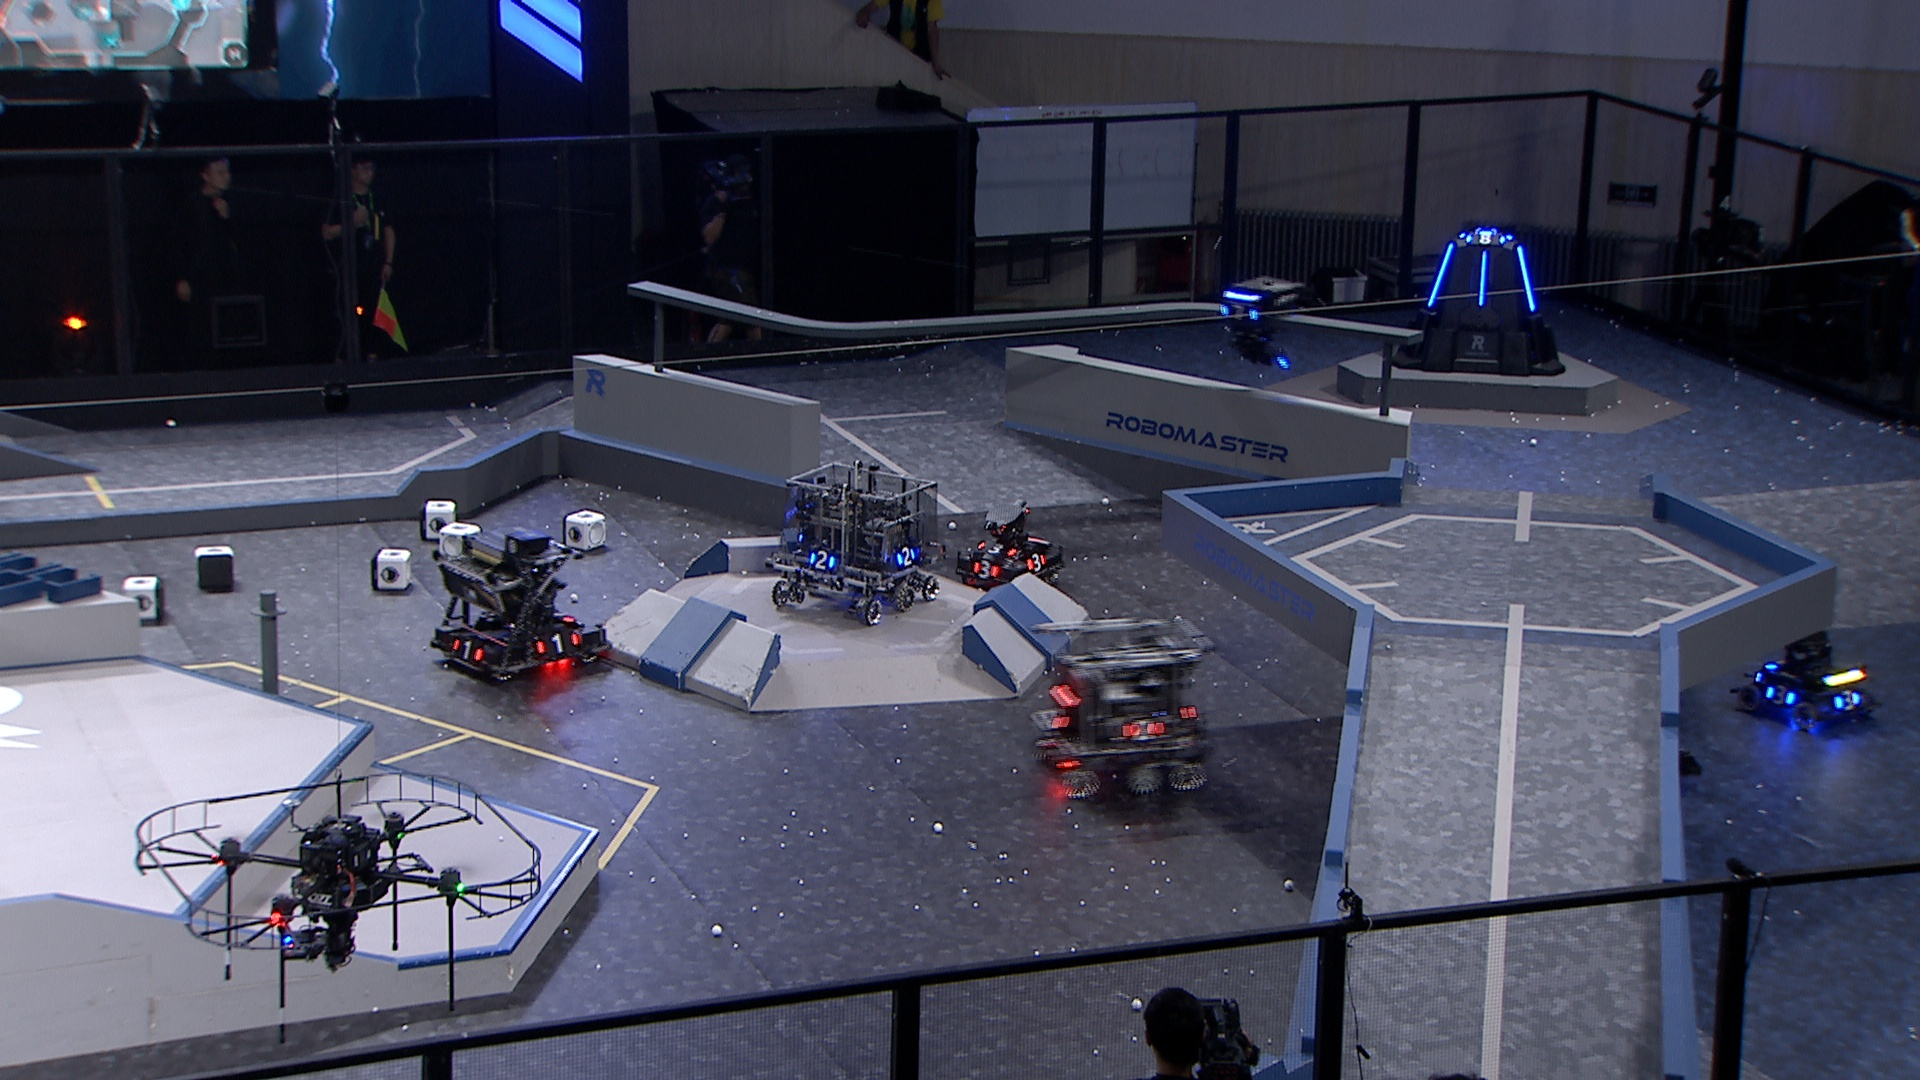armor: (1425, 243, 1457, 311), (1515, 244, 1539, 314), (531, 629, 585, 657), (448, 640, 489, 665), (1124, 717, 1166, 741), (1460, 229, 1513, 247), (1218, 305, 1261, 324), (1764, 684, 1797, 707), (1477, 251, 1489, 309), (972, 560, 1002, 582), (808, 550, 835, 574), (1833, 688, 1861, 711), (1044, 708, 1069, 732), (975, 543, 1015, 556), (1022, 553, 1048, 572), (894, 545, 916, 567), (550, 609, 575, 621)
base: (1377, 223, 1565, 377)
car: (1029, 608, 1218, 802), (767, 458, 949, 624), (433, 524, 615, 684), (1735, 633, 1879, 733), (955, 498, 1065, 597)
watcher: (1212, 272, 1304, 378)
